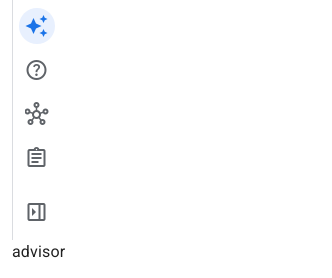
Scenario: DvRightRail › the panel toggle closes the open panel and reopens the last one
This screenshot has width=332, height=278.
Click the button named "Close panel".
click(36, 212)  # box [16, 192, 56, 232]
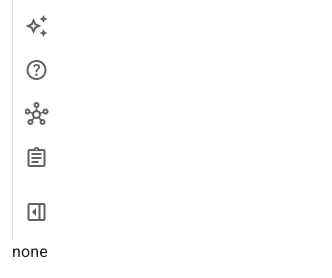
Expected: the text with test id "open" reads "none", [12, 242, 48, 261]
Click the button named "Open panel".
click(36, 212)  # box [16, 192, 56, 232]
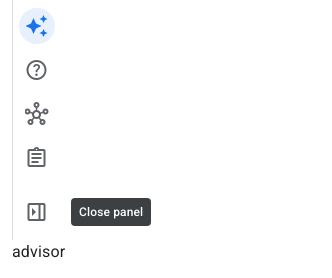
Expected: the text with test id "open" reads "advisor", [12, 242, 65, 261]
